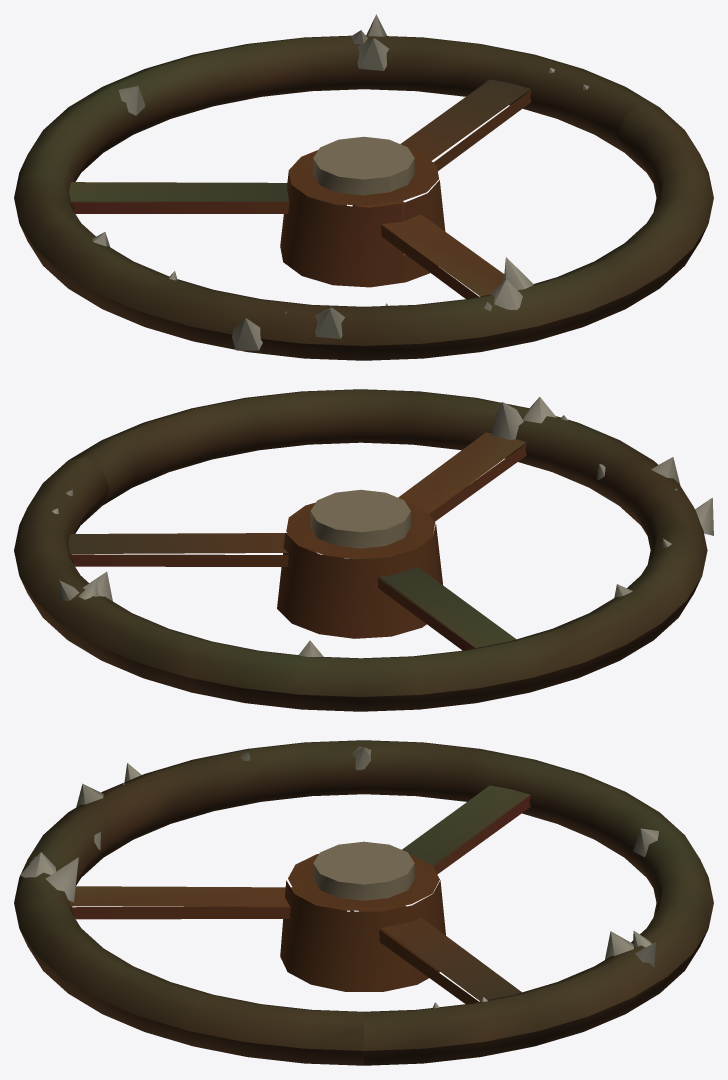
The model's file is steering-wheel.glb.
3 views of the same model, one above another, from view 1: azimuth 30°, elevation 25°; view 2: azimuth 150°, elevation 25°; view 3: azimuth 270°, elevation 25° (orthographic).
Parts seen in each view (by area): view 1: steering-wheel; view 2: steering-wheel; view 3: steering-wheel.
Boxes of the visible parts, <box> form: steering-wheel: <box>14,14,713,360</box>; steering-wheel: <box>14,389,713,711</box>; steering-wheel: <box>14,740,713,1065</box>.
Size of the model in its own units: 0.414 by 0.0659 by 0.414.
